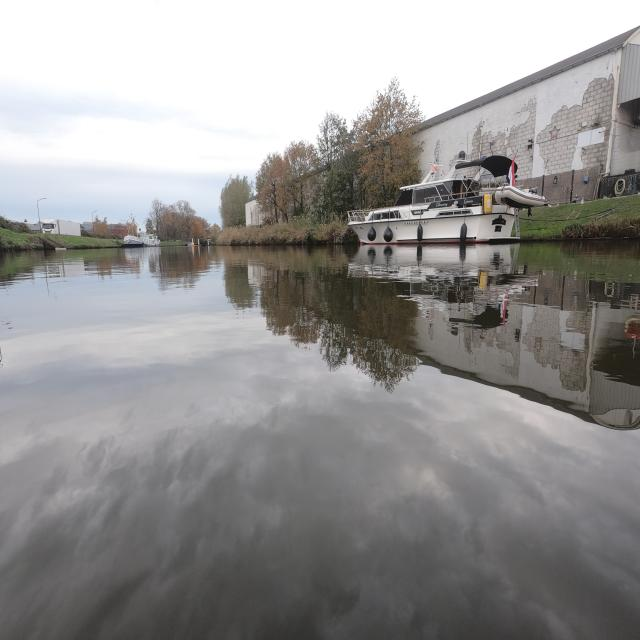grass: (517, 193, 639, 237), (1, 230, 80, 248)
reed: (216, 217, 358, 245)
sky: (1, 0, 639, 222)
tree: (354, 78, 421, 208), (315, 112, 357, 214), (284, 141, 318, 216), (256, 153, 288, 222)
water: (1, 242, 638, 639)
